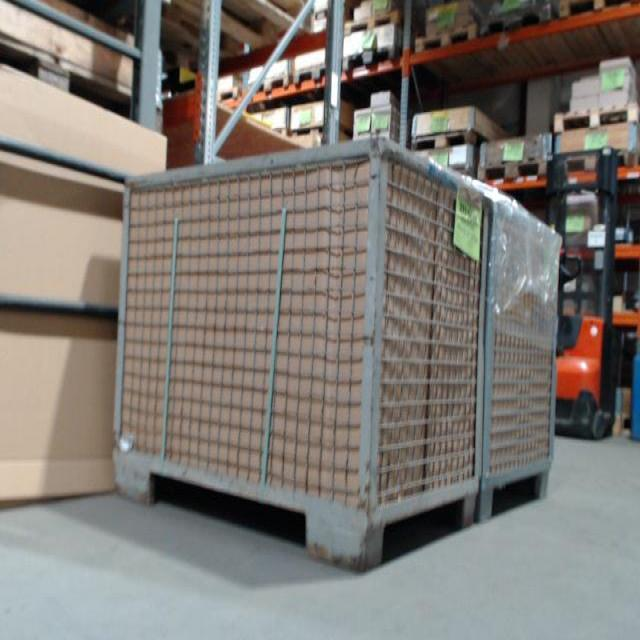pallet: (2, 4, 167, 130), (168, 1, 311, 71), (478, 0, 555, 46), (549, 103, 639, 135), (410, 21, 486, 58), (557, 150, 636, 180), (347, 41, 405, 77), (476, 155, 550, 183), (343, 10, 406, 40), (408, 127, 487, 148), (555, 3, 632, 22), (293, 123, 342, 149), (293, 60, 332, 90), (250, 75, 286, 100), (213, 84, 250, 108)
pallet_truck: (532, 140, 626, 443)
stillage: (114, 145, 485, 579), (485, 182, 554, 524)
